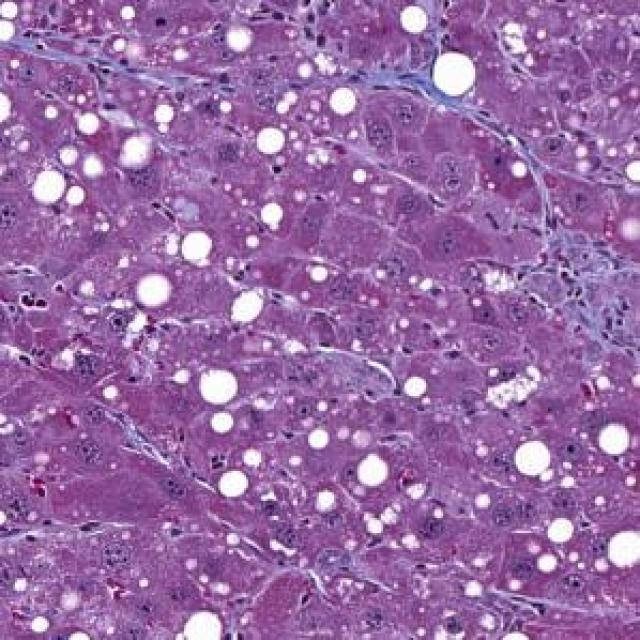fibrosis: (508, 227, 630, 334)
